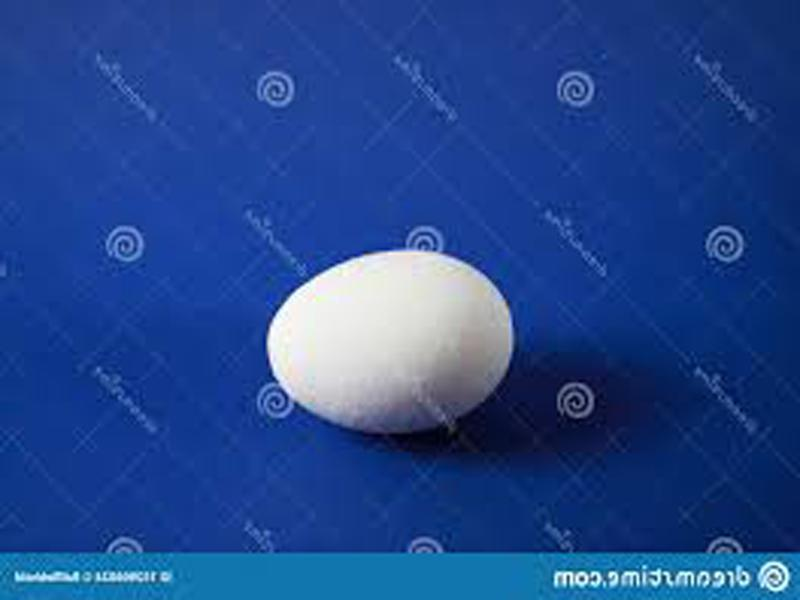Eggs: (266, 251, 514, 434)
